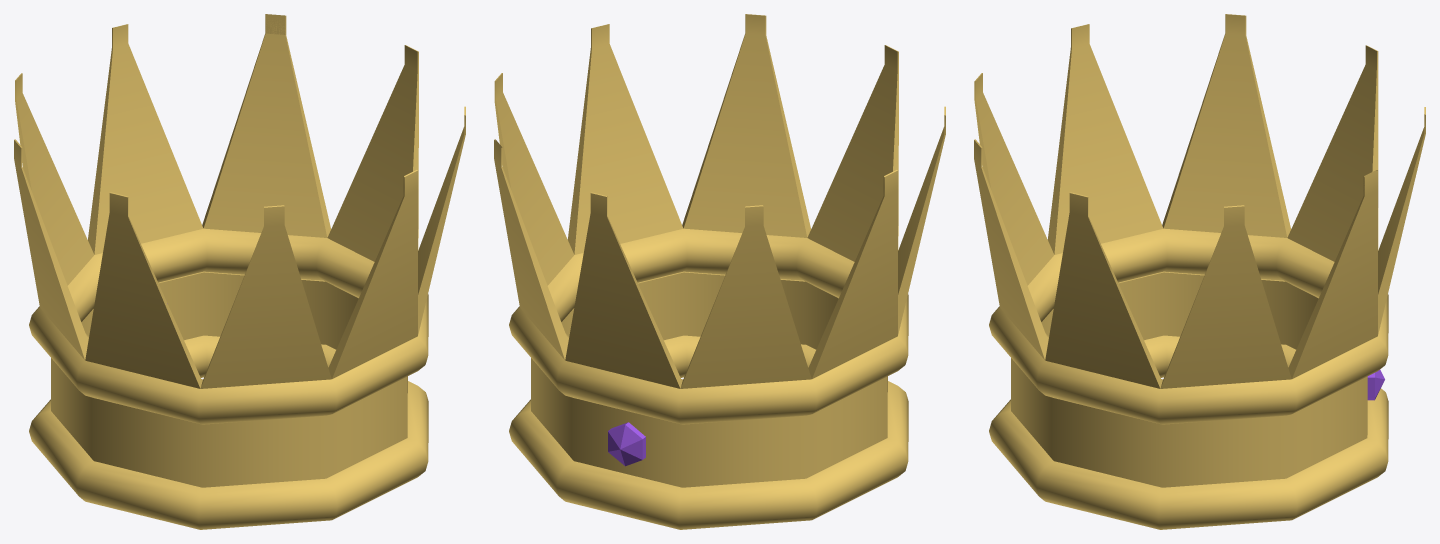
File: crown.fbx
3 views of the same model, side by side, from view 1: azimuth 30°, elevation 25°; view 2: azimuth 150°, elevation 25°; view 3: azimuth 270°, elevation 25° (orthographic).
Parts seen in each view (by area): view 1: Torus; view 2: Torus, Circle.001; view 3: Torus.
Part boxes in pixels (x1=…): Torus: x1=14, y1=14, x2=465, y2=529; Torus: x1=494, y1=14, x2=945, y2=529; Circle.001: x1=608, y1=422, x2=645, y2=466; Torus: x1=974, y1=14, x2=1425, y2=529.
Size of the model in its own units: 65.05 by 53.42 by 64.1.
